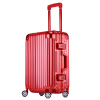luggage: (21, 2, 72, 99)
